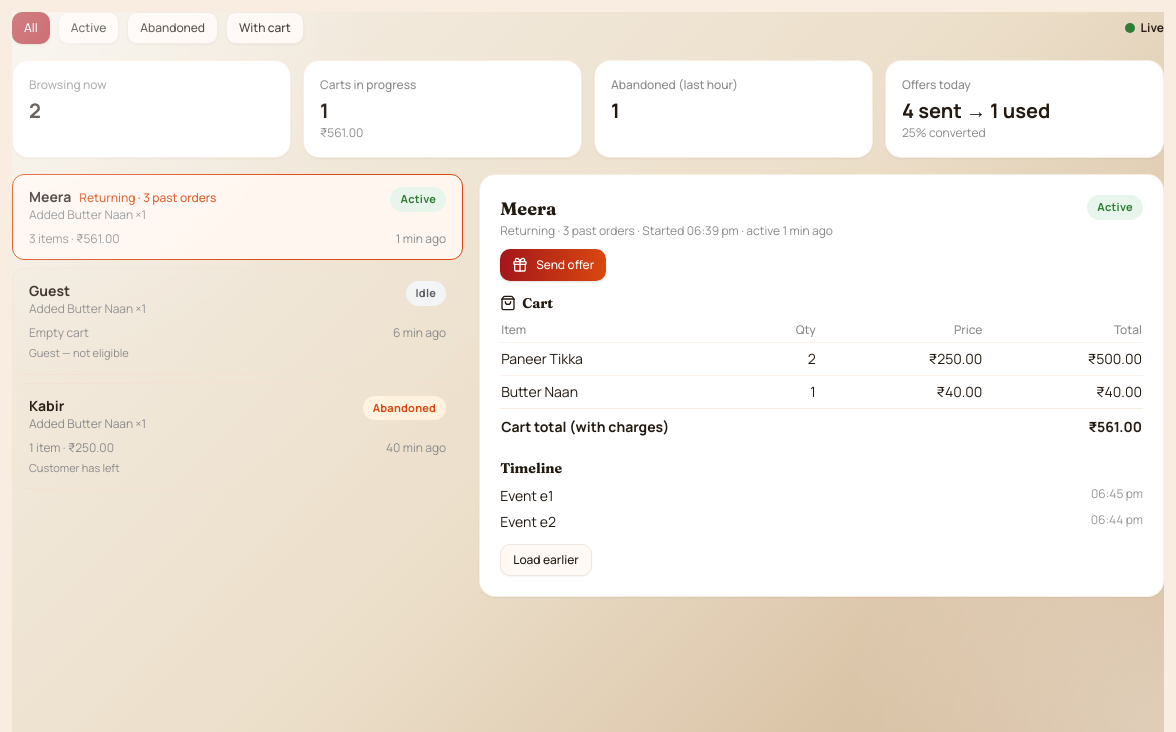
Test: live dashboard › detail: cart and timeline; Load earlier asks for events before the cursor
This screenshot has width=1176, height=732.
expect the element "Cart" is shown: met, box x1=500 y1=293 x2=1143 y2=438
expect the heading "Meera" is shown: met, box x1=500 y1=197 x2=557 y2=220
What coordinates should you click on to do the following:
click the button "Load earlier"
I would click on:
 (546, 560)
Its box is x1=500 y1=544 x2=592 y2=576.
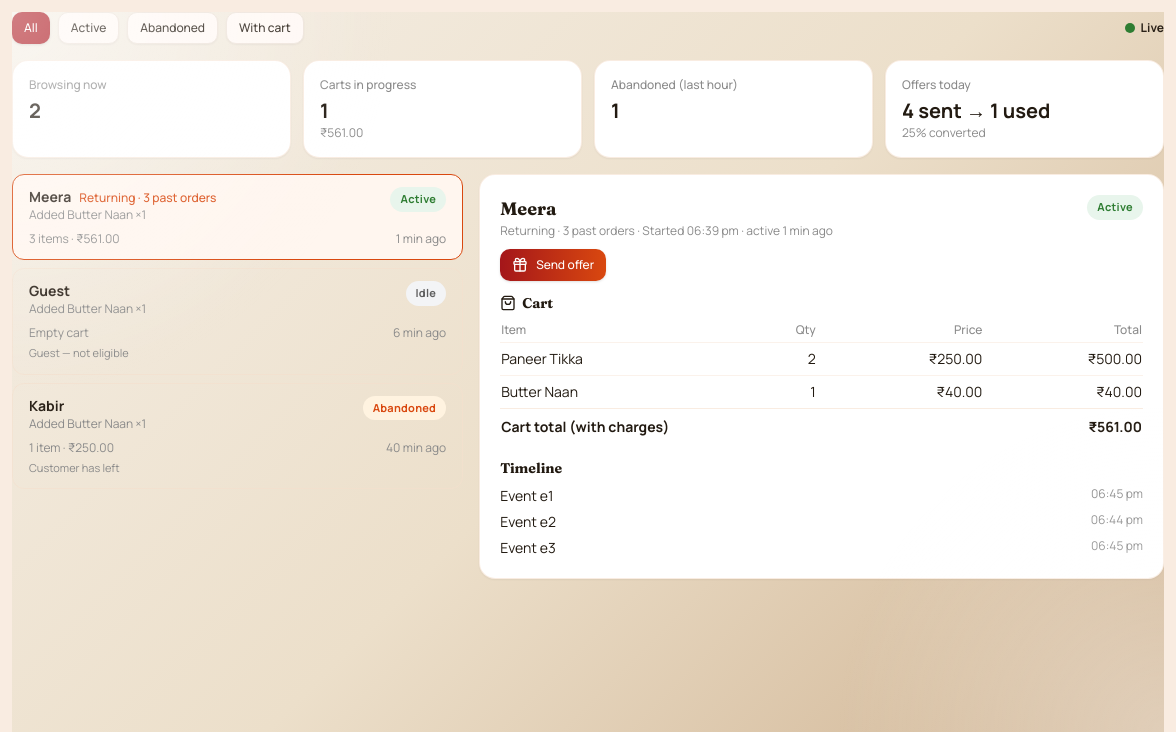
expect the text "Event e3" is shown: met, box x1=500 y1=538 x2=556 y2=558
expect the button "Load earlier" is gone: met
